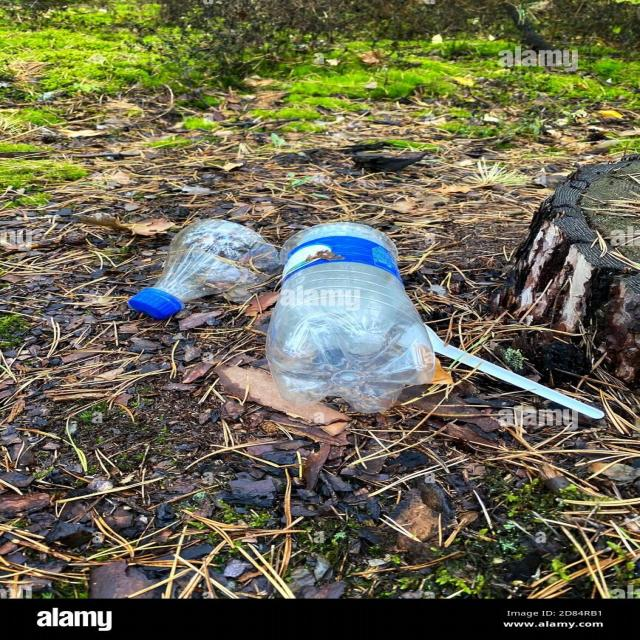bottle: (254, 218, 456, 422)
